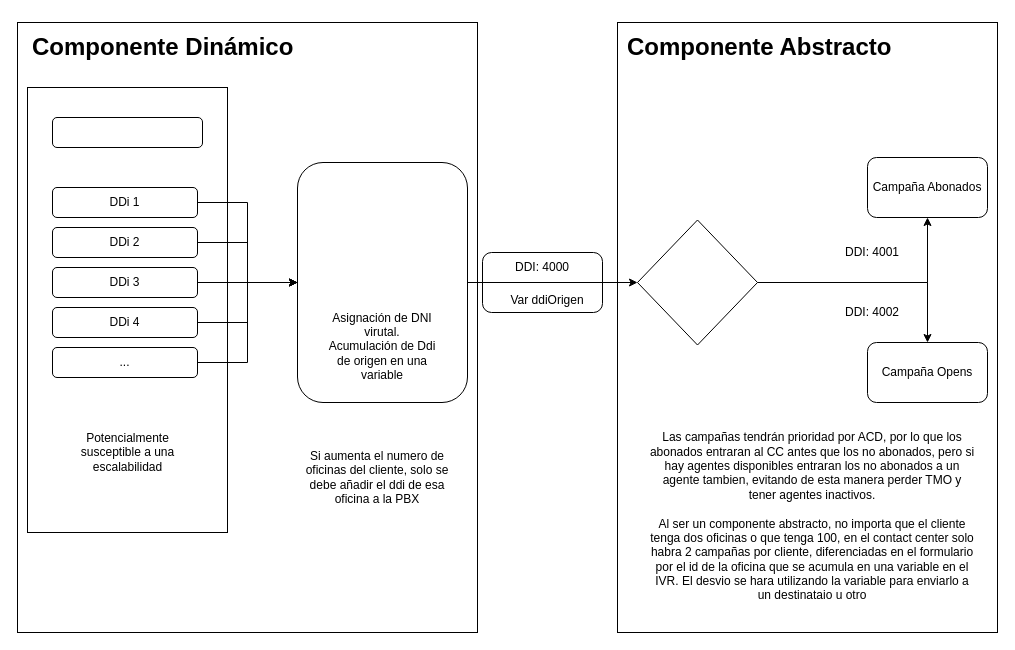
The diagram is 1015 pixels wide and 650 high, and some of its shapes have lost their labels. The shapes that lost their labels are listed below. From the top down, each one's box as (x1, y1, x2, y2) in pixels, then its label:
(52, 116, 202, 148): Client Dispatcher
(296, 162, 468, 402): Inconcert PBX
(636, 219, 758, 345): Campaña IVR
